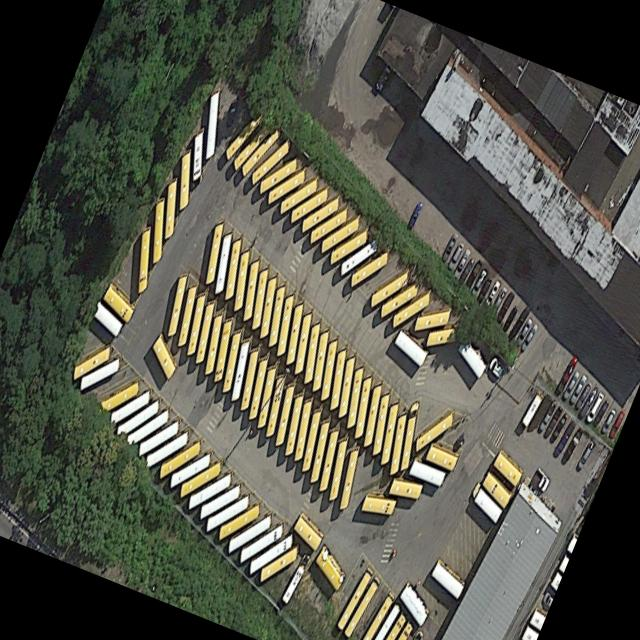large-vehicle: (336, 567, 373, 630), (343, 577, 379, 638), (233, 117, 272, 171), (242, 123, 279, 177), (250, 530, 293, 574), (117, 396, 159, 441), (226, 108, 263, 159), (126, 406, 169, 449), (207, 491, 250, 532), (241, 521, 283, 562), (228, 512, 270, 552), (145, 429, 188, 468), (252, 139, 288, 185), (189, 470, 231, 509), (361, 591, 394, 640), (281, 552, 312, 603), (160, 438, 200, 477), (180, 459, 221, 497), (219, 501, 260, 539), (98, 378, 139, 416), (321, 214, 359, 254), (200, 481, 240, 519), (280, 175, 318, 215), (470, 479, 503, 525), (341, 235, 378, 276), (110, 388, 151, 425), (139, 418, 180, 455), (399, 399, 420, 470), (220, 328, 243, 392), (314, 546, 345, 593), (317, 428, 340, 491), (371, 269, 408, 308), (416, 412, 453, 451), (74, 341, 111, 380), (171, 450, 211, 486), (362, 380, 383, 447), (351, 249, 388, 287), (260, 156, 297, 194), (260, 544, 297, 582), (393, 289, 430, 327), (81, 354, 121, 389), (431, 558, 466, 598), (394, 327, 429, 367), (456, 334, 487, 379), (185, 293, 207, 356), (300, 409, 322, 472), (302, 196, 339, 233), (290, 186, 327, 223), (370, 391, 391, 456), (229, 339, 251, 401), (255, 366, 277, 428), (274, 383, 296, 445), (166, 273, 188, 335), (292, 398, 313, 462), (264, 375, 286, 436), (338, 448, 360, 509), (311, 206, 347, 243), (102, 284, 136, 323), (248, 357, 269, 419), (283, 394, 304, 456), (177, 284, 198, 346), (309, 421, 330, 483), (353, 374, 373, 439), (388, 410, 408, 475), (379, 401, 399, 466), (331, 228, 367, 264), (381, 282, 417, 318), (268, 169, 305, 204), (400, 581, 428, 627), (194, 301, 215, 362), (275, 292, 295, 356), (481, 469, 513, 509), (258, 274, 278, 337), (213, 318, 233, 381), (205, 220, 225, 283), (203, 313, 223, 375), (328, 439, 348, 501), (345, 365, 365, 427), (91, 299, 124, 336), (239, 349, 259, 410), (285, 301, 304, 365), (267, 284, 286, 348), (320, 337, 339, 401), (311, 328, 330, 392), (328, 347, 347, 411), (493, 448, 524, 487), (408, 456, 447, 487), (250, 265, 269, 328), (223, 237, 242, 300), (337, 354, 356, 417), (294, 312, 313, 374), (214, 231, 233, 293), (293, 514, 323, 552), (242, 258, 260, 321), (233, 248, 251, 311), (373, 600, 401, 640), (303, 321, 321, 383), (205, 90, 220, 160), (153, 334, 176, 379), (137, 226, 151, 294), (426, 442, 458, 471), (426, 323, 466, 345), (152, 196, 165, 262), (388, 476, 424, 499), (164, 178, 177, 239), (414, 308, 450, 330), (361, 494, 398, 514), (179, 151, 191, 211), (384, 610, 406, 640), (193, 129, 204, 186), (396, 618, 414, 640)
small-vehicle: (507, 303, 531, 344), (560, 425, 584, 465), (552, 419, 576, 459), (575, 435, 596, 472), (542, 403, 563, 438), (519, 319, 540, 353), (496, 288, 516, 323), (537, 398, 557, 433), (585, 390, 606, 423), (548, 411, 569, 444), (464, 256, 483, 290), (453, 245, 472, 278), (569, 372, 588, 405), (579, 387, 599, 418), (574, 378, 593, 410), (515, 314, 534, 345), (447, 239, 465, 271), (562, 369, 581, 399), (502, 301, 520, 332), (441, 231, 459, 262), (475, 275, 493, 305), (608, 409, 626, 438), (471, 266, 488, 296), (592, 398, 609, 428), (458, 256, 475, 284), (532, 466, 551, 491), (488, 353, 506, 379), (408, 200, 424, 229), (485, 277, 501, 305), (601, 407, 617, 434), (492, 283, 508, 309), (226, 96, 239, 125)
